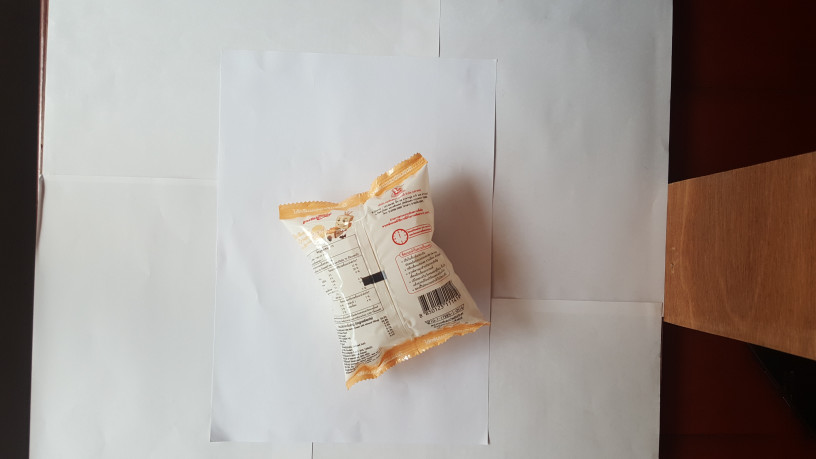farmhouse-sweetsandwich-almond: (278, 150, 491, 387)
